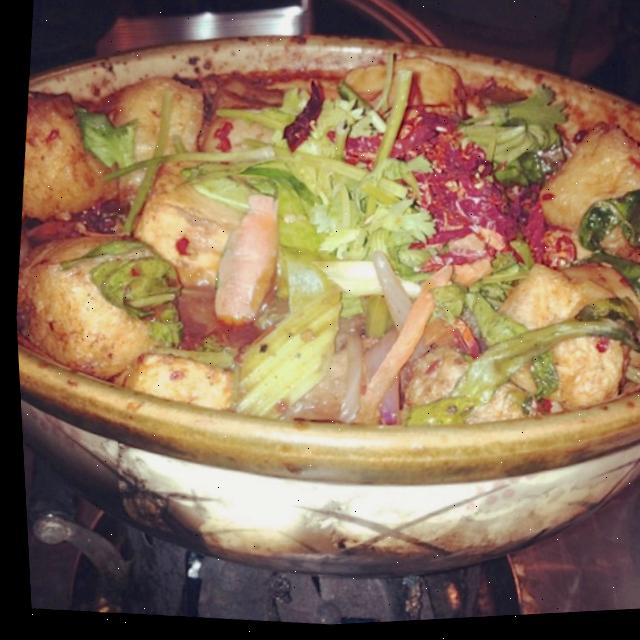汤锅炖物: (0, 0, 640, 596)
